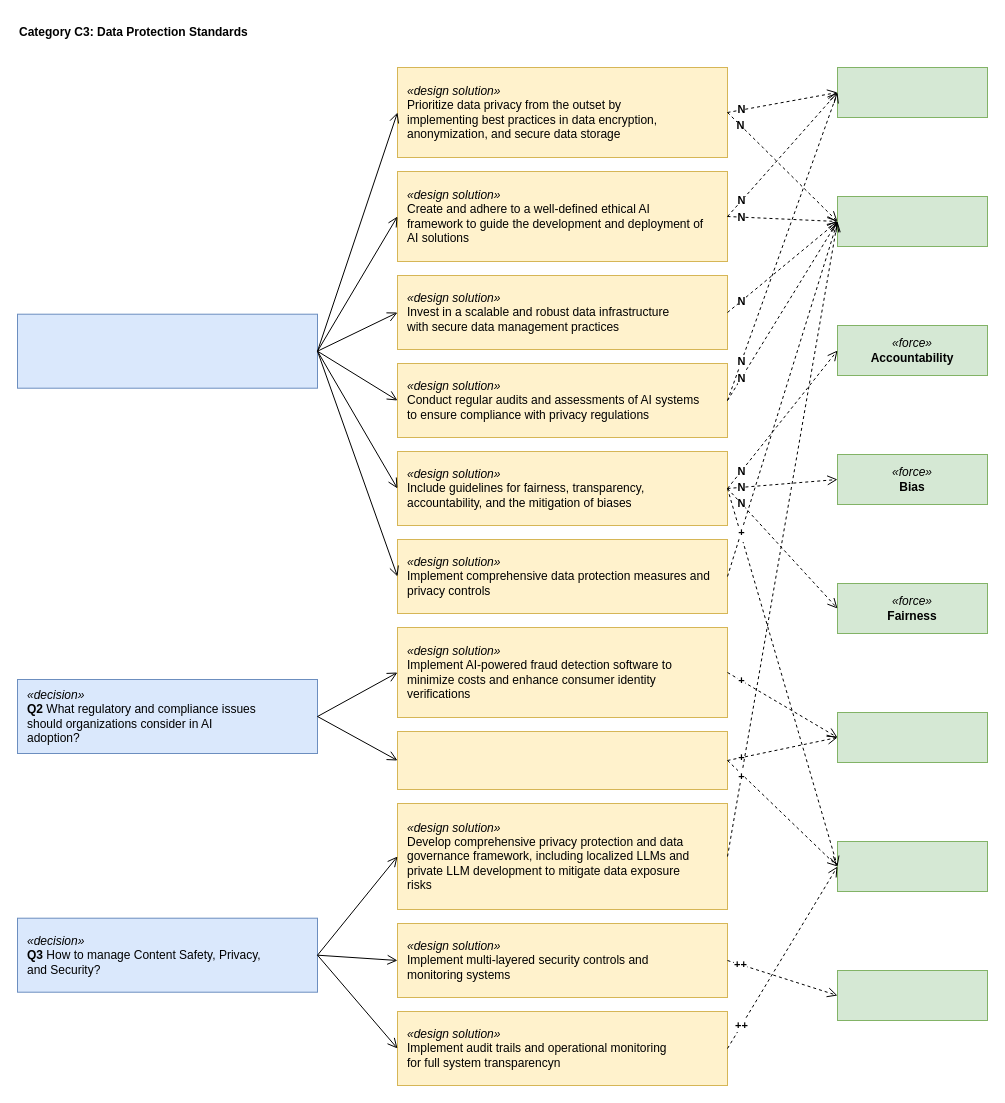
Some shapes in this 1005 by 1103 pixel diagram are drawn without their labels. The centre of each missing label's shape, as x and y in pixels:
"«decision» Q1 How to protect data privacy in AI?" goes at point 167,350.
"«design solution» AI-assisted customer service automation" goes at point 562,760.
"«force» Ethics" goes at point 912,92.
"«force» Privacy" goes at point 912,221.
"«force» Security" goes at point 912,995.
"«force» Transparency" goes at point 912,866.
"«force» Trust" goes at point 912,737.
